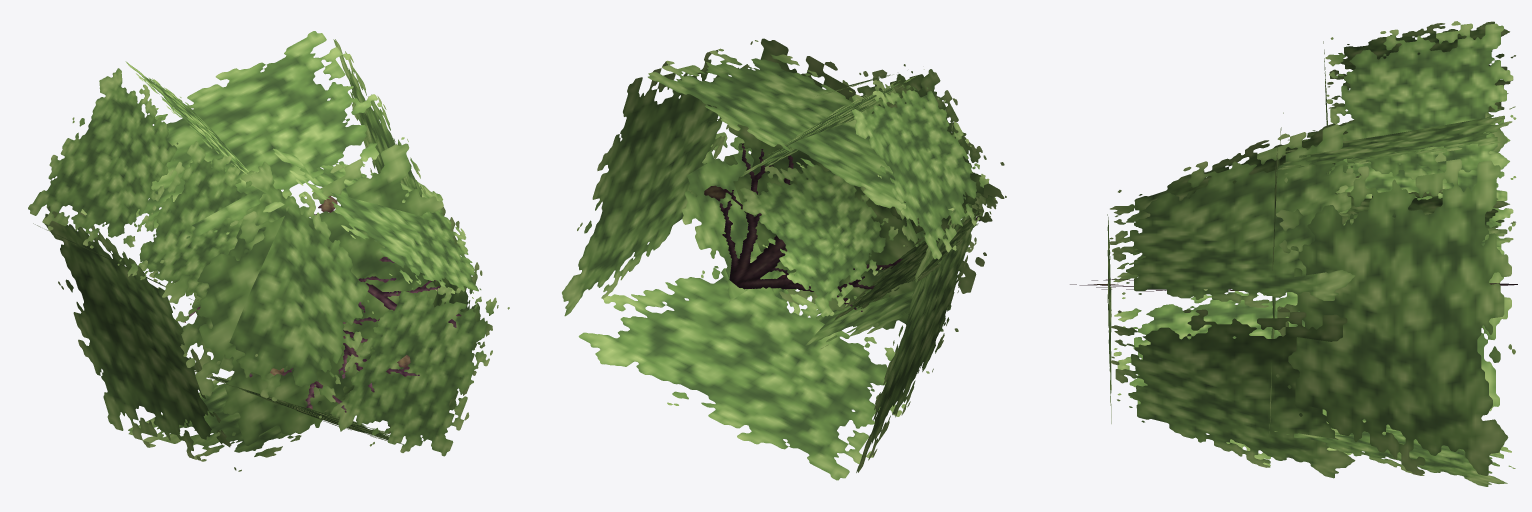
The model's file is keep-big-sage.obj.
3 renders of one model, left to right at view 1: azimuth 30°, elevation 25°; view 2: azimuth 150°, elevation 25°; view 3: azimuth 270°, elevation 25°, orthographic. The views are drawn at different scales.
Size of the model in its own units: 1.29 by 1.21 by 1.2.
1 material, 1 textured.
